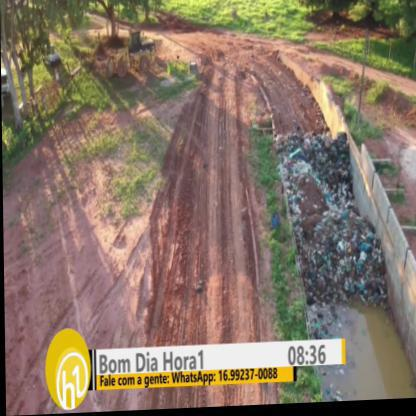agua: (355, 314, 390, 397)
lixo: (288, 128, 367, 309)
